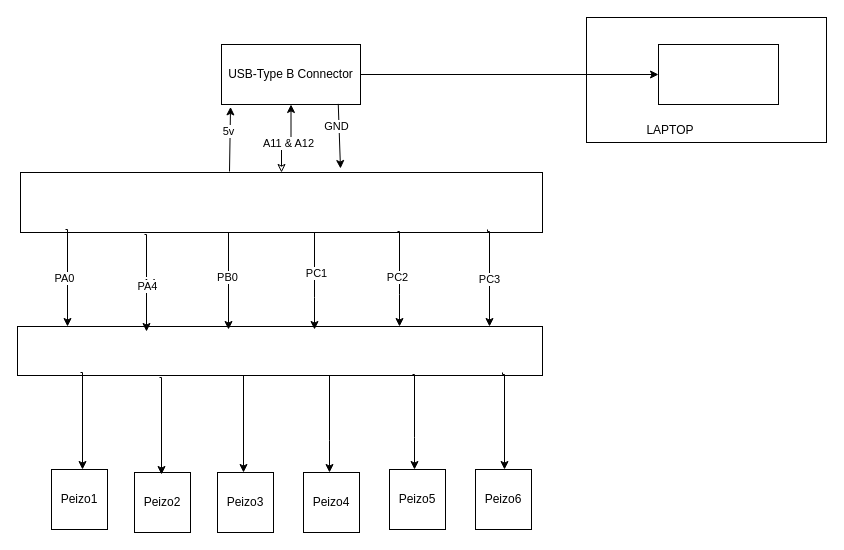
This 844x550 diagram has some shape labels left out. Each missing label, with the centre of its shape:
"Buffer(LM358)" belongs at point (279, 351).
"Controller" belongs at point (281, 202).
"DAW" belongs at point (718, 74).
